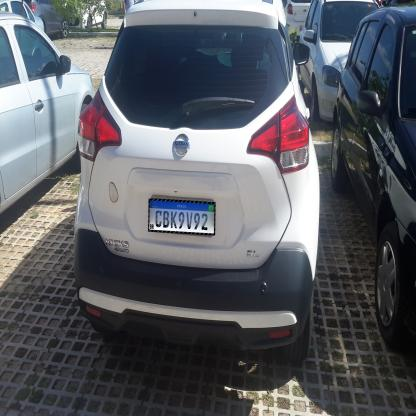PlacaM: (148, 198, 216, 236)
